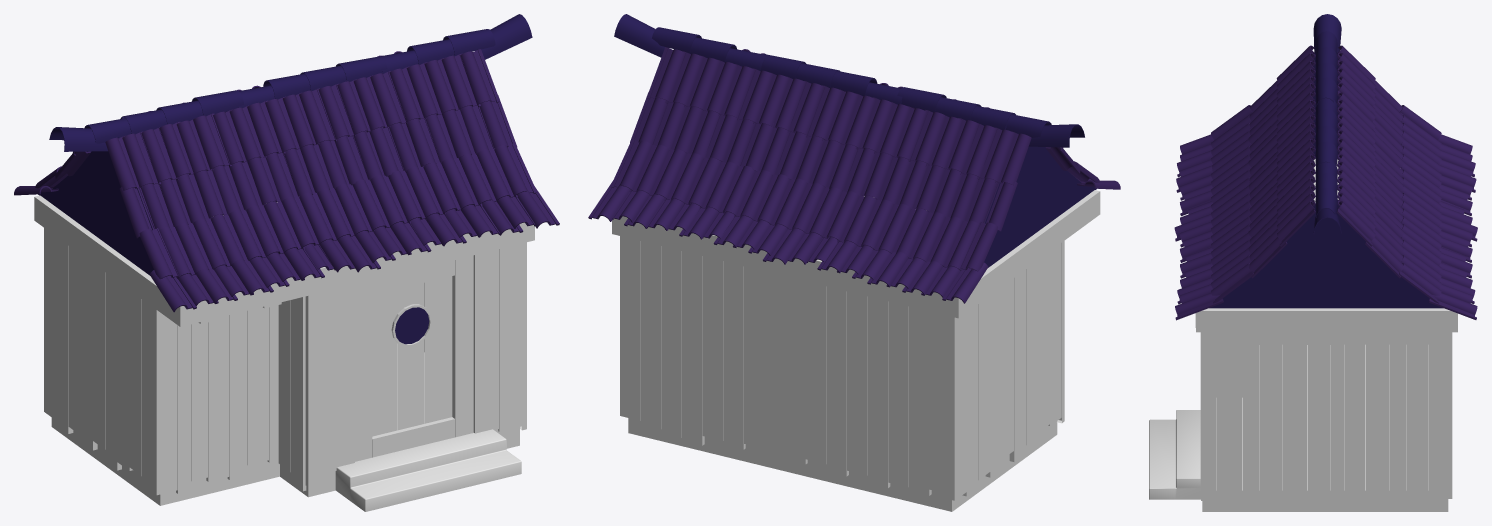
The model's file is Maison_3.fbx.
3 views of the same model, side by side, from view 1: azimuth 30°, elevation 25°; view 2: azimuth 150°, elevation 25°; view 3: azimuth 270°, elevation 25° (orthographic). The views are drawn at different scales.
Parts seen in each view (by area): view 1: Base.001; view 2: Base.001; view 3: Base.001.
Boxes of the visible parts, <box> form: Base.001: <box>14,14,559,511</box>; Base.001: <box>588,14,1120,511</box>; Base.001: <box>1149,14,1477,511</box>.
Size of the model in its own units: 519 by 384 by 351.
